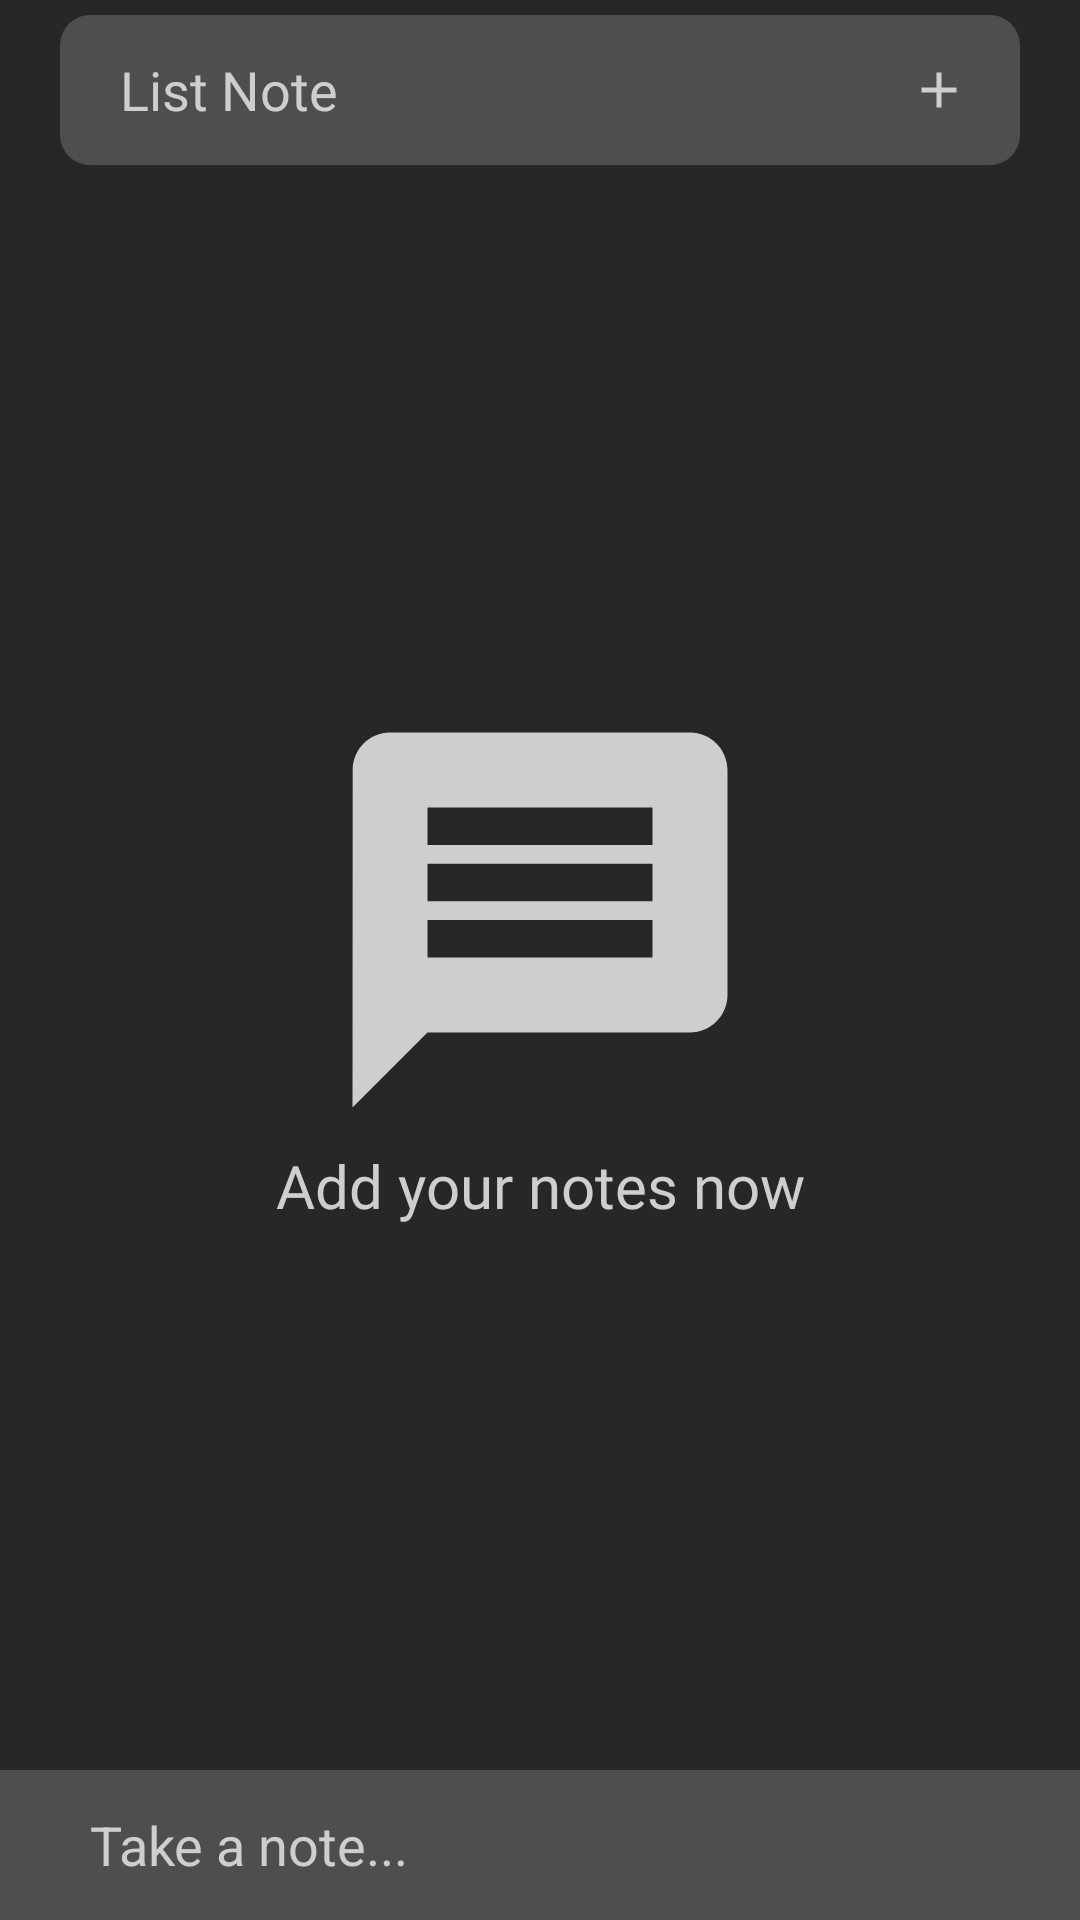

Icons on this 1080px×1920px Android screen, each with its box as (x1, y1, x2, y2):
add: (858, 15, 1020, 165)
